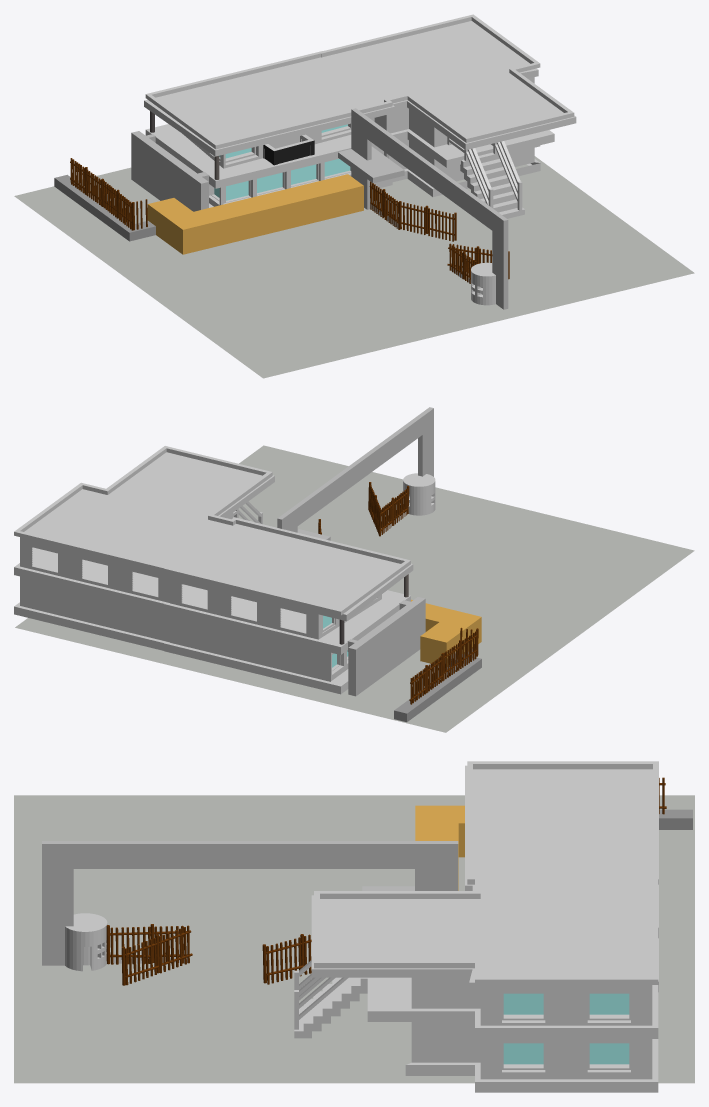
The model's file is UPSLP.fbx.
3 renders of one model, top to bottom at view 1: azimuth 30°, elevation 25°; view 2: azimuth 150°, elevation 25°; view 3: azimuth 270°, elevation 25°, orthographic. The views are drawn at different scales.
Parts seen in each view (by area): view 1: Plane, building_005, Cube, Cube.001, Cube.003, Cube.002, Cylinder; view 2: building_005, Plane, Cube.001, Cube.003, Cube, Cube.002, Cylinder; view 3: Plane, building_005, Cube.001, Cylinder, Cube, Cube.002.
Part boxes in pixels (x1,y1,x2,y2): Plane: (14, 156, 694, 378); building_005: (144, 14, 576, 218); Cube: (147, 174, 363, 254); Cube.001: (338, 108, 508, 309); Cube.003: (131, 131, 209, 211); Cube.002: (54, 174, 155, 241); Cylinder: (471, 262, 495, 305); building_005: (14, 446, 413, 694); Plane: (15, 445, 694, 732); Cube.001: (277, 407, 433, 540); Cube.003: (347, 597, 425, 696); Cube: (411, 599, 481, 666); Cube.002: (394, 652, 481, 722); Cylinder: (403, 473, 435, 515); Plane: (14, 795, 694, 1083); building_005: (294, 761, 658, 1092); Cube.001: (42, 841, 458, 965); Cylinder: (65, 913, 107, 971); Cube: (415, 805, 464, 890); Cube.002: (659, 809, 692, 829).
Size of the model in its own units: 66.11 by 12.79 by 64.01.
